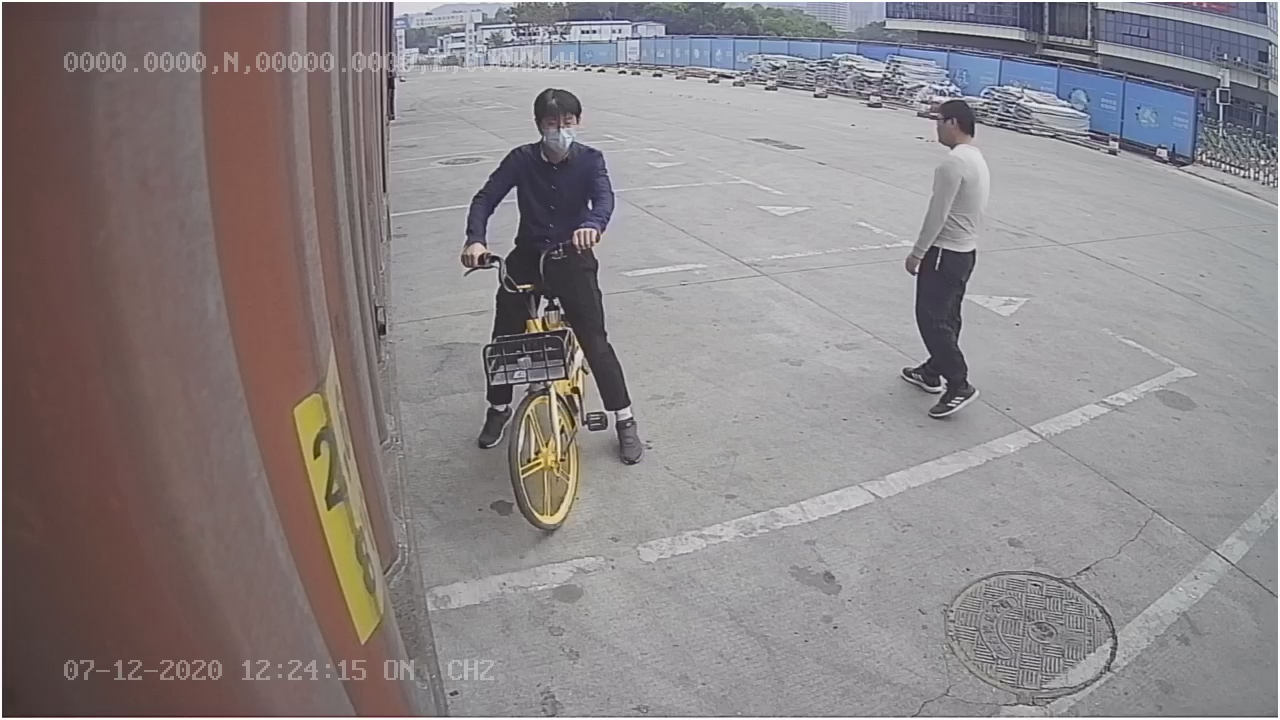person: (892, 97, 996, 425)
